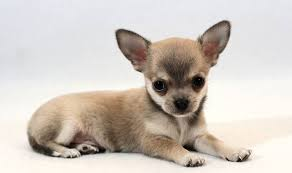chihuahua: (15, 13, 260, 172)
